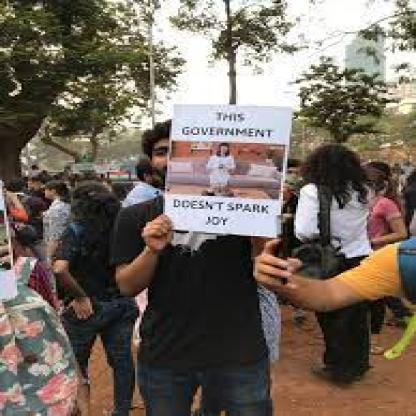BANNER: (163, 104, 292, 239)
